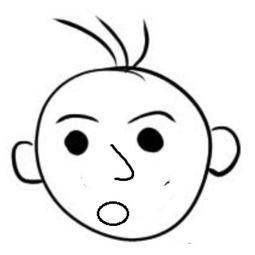ear: (204, 120, 245, 181), (5, 139, 48, 187)
eye: (59, 127, 92, 159), (136, 127, 170, 157)
eyebrow: (125, 107, 177, 127), (51, 108, 99, 125)
nose: (107, 143, 136, 183)
open_mouth: (97, 198, 135, 229)
